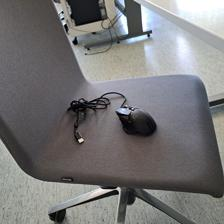mouse: (115, 104, 156, 137)
